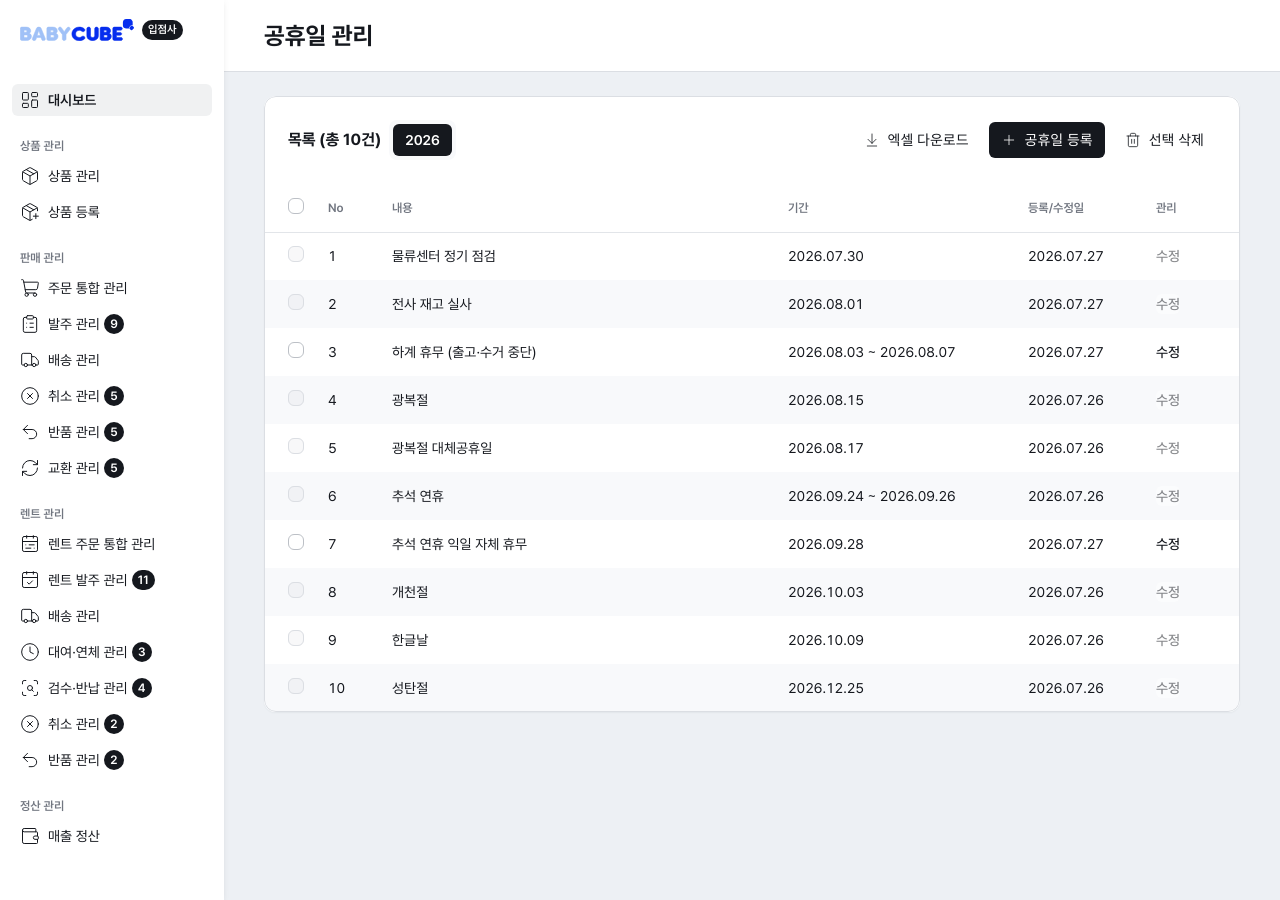
Scenario: 공휴일 관리 › 자사분 [수정] — 저장값으로 열린다
Click the button with aria-label "하계 휴무 (출고·수거 중단) 수정" at (1168, 352), box [1156,342,1180,362]
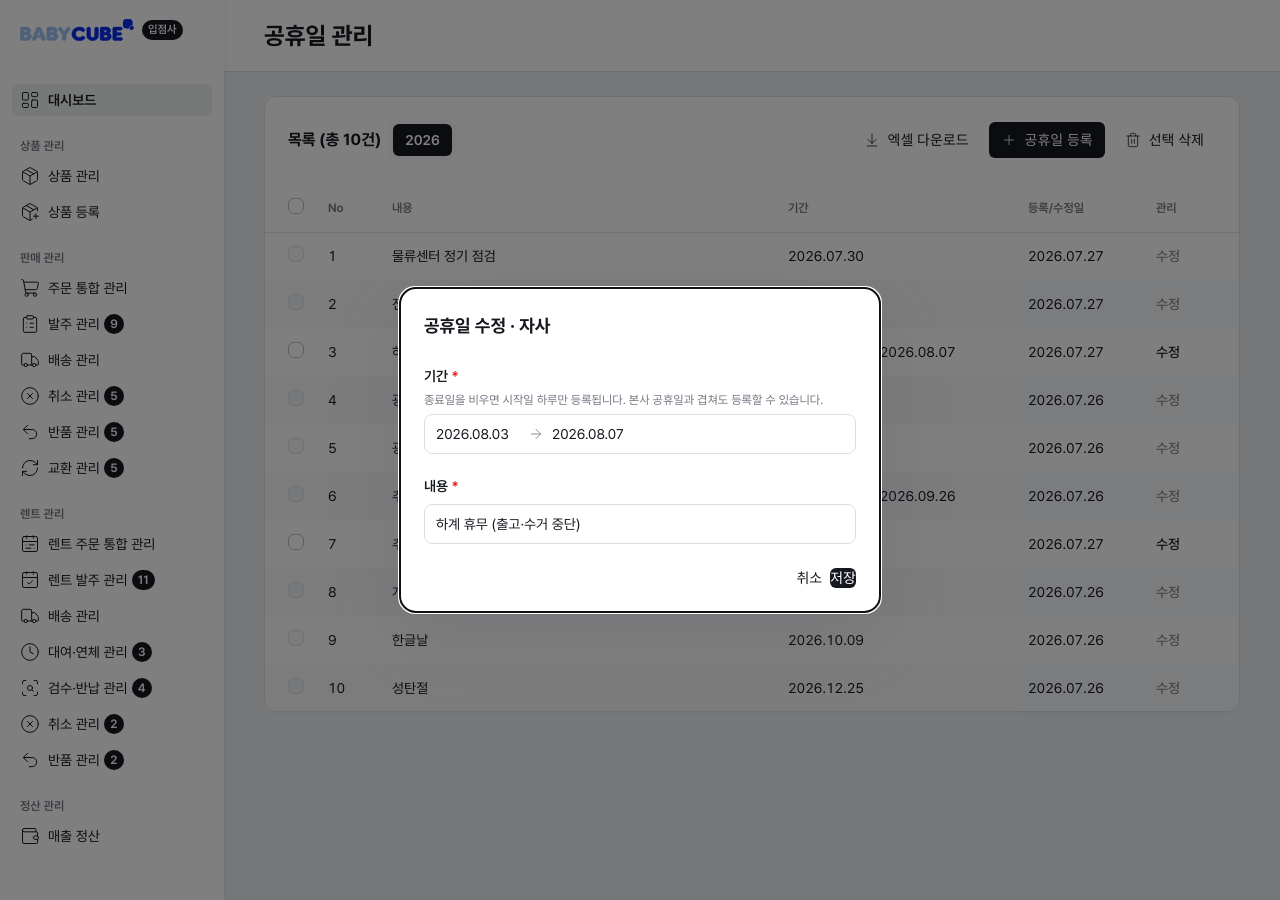
expect the field showing "하계 휴무 (출고·수거 중단)" is shown: met, box [436,512,844,536]
Click the button "저장" at (843, 578), box [830,568,856,588]
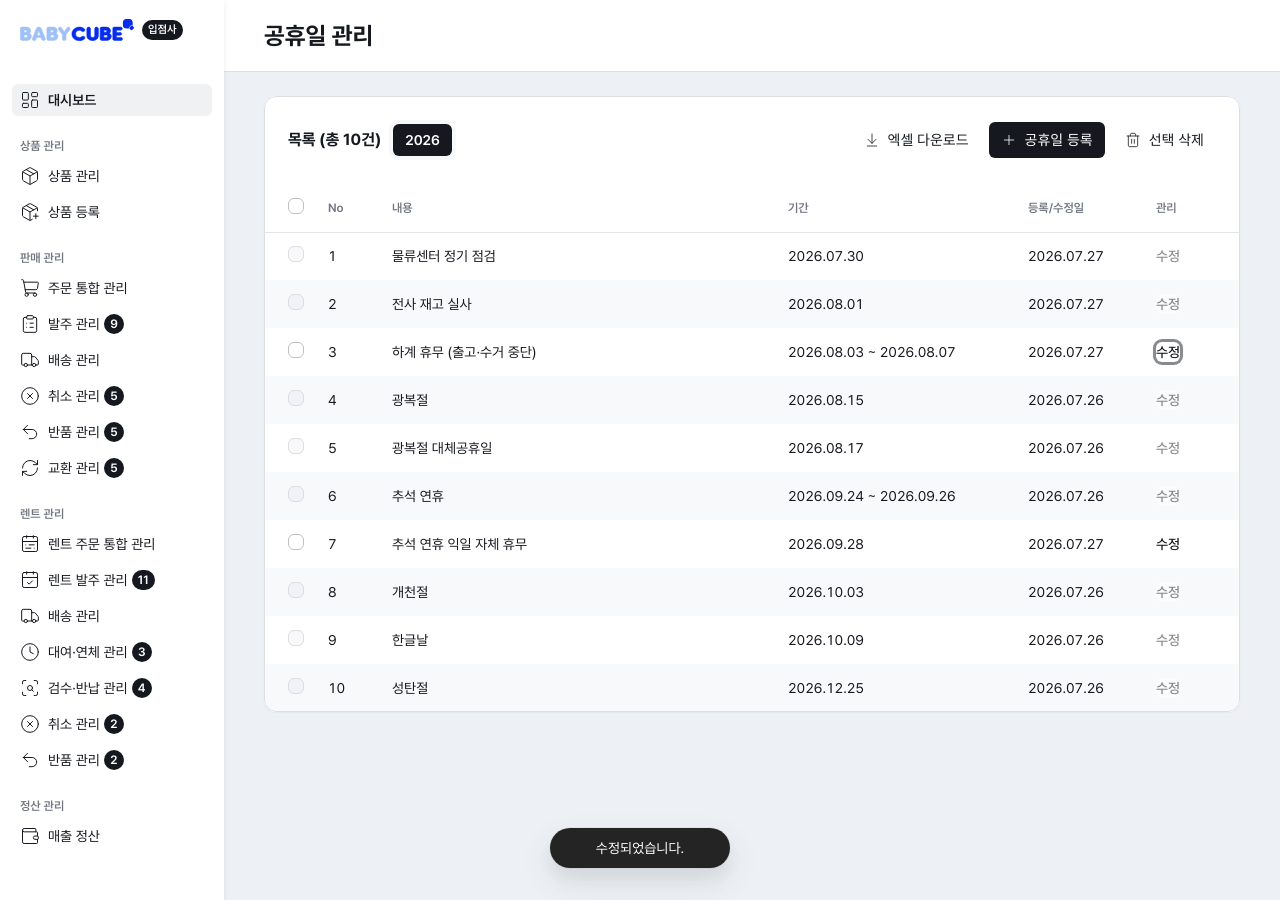
expect the text "수정되었습니다." is shown: met, box [550,828,730,868]
